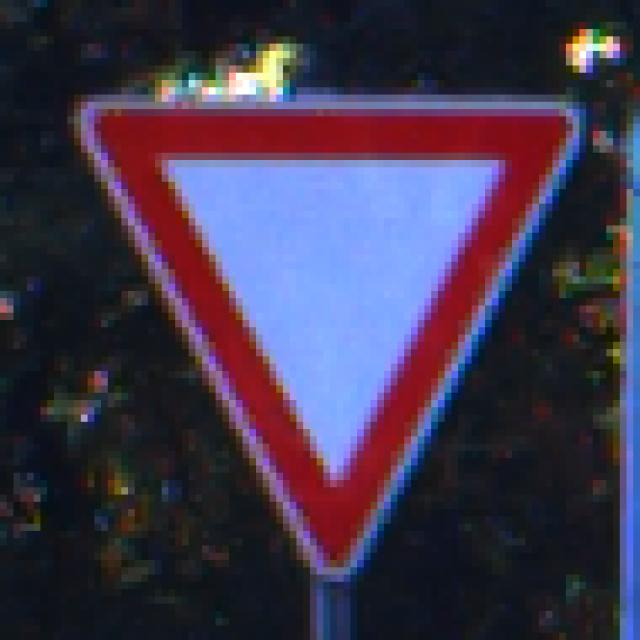Give Way: (62, 52, 587, 590)
